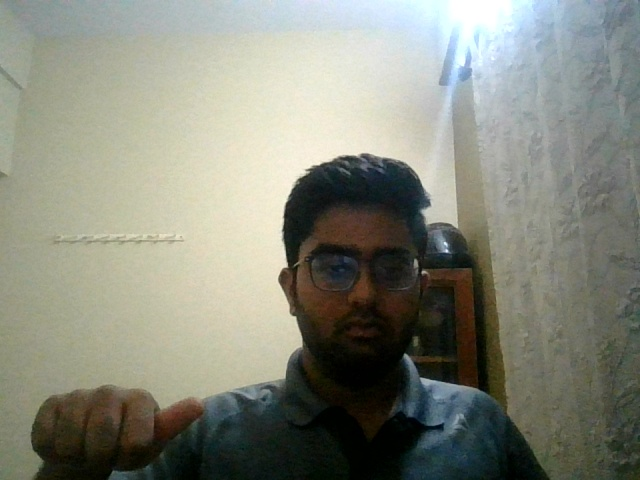Yes: (24, 372, 217, 480)
